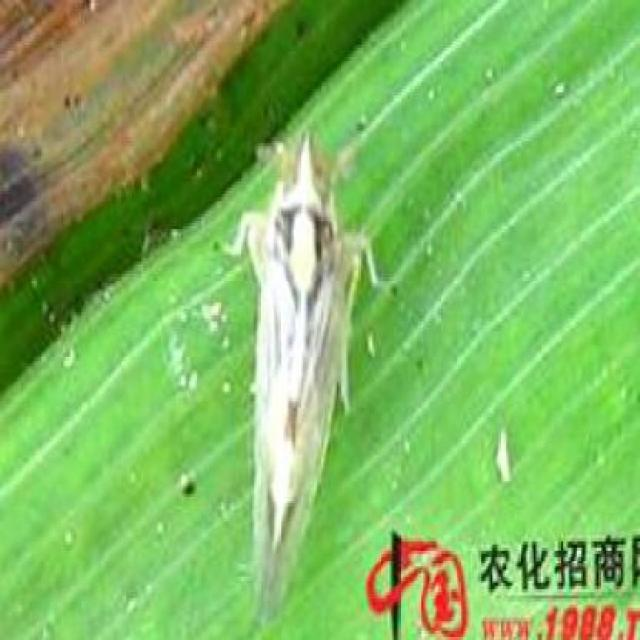brown-planthopper: (226, 140, 362, 635)
